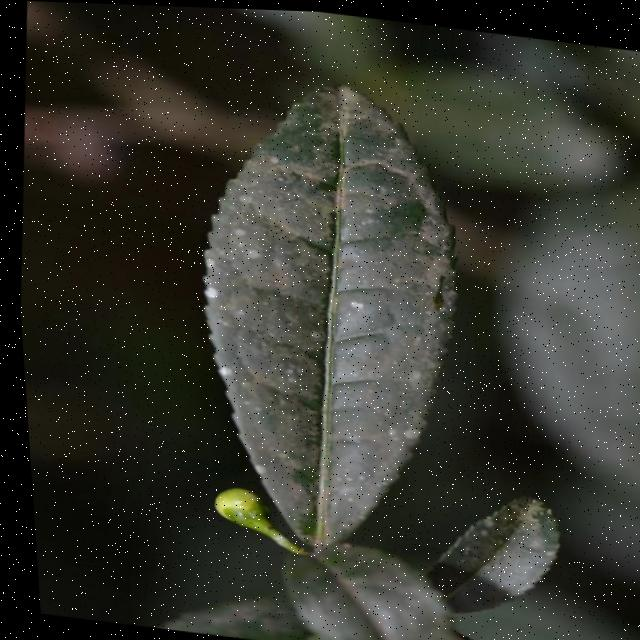Tea algae leaf spot: (187, 75, 475, 515)
